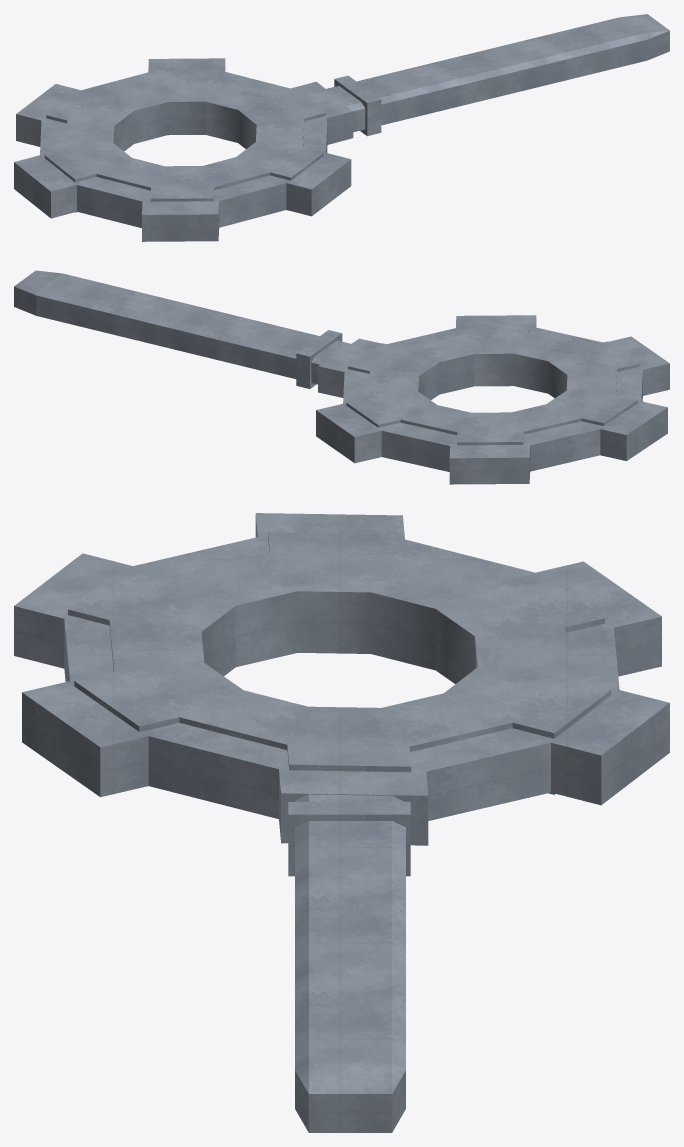
Rendered from key.fbx.
3 views of the same model, one above another, from view 1: azimuth 30°, elevation 25°; view 2: azimuth 150°, elevation 25°; view 3: azimuth 270°, elevation 25° (orthographic). The views are drawn at different scales.
Visible parts, largest first — view 1: mergedBlocks; view 2: mergedBlocks; view 3: mergedBlocks.
Boxes of the visible parts, left/top/right/bottom form: mergedBlocks: left=14, top=14, right=669, bottom=241; mergedBlocks: left=14, top=270, right=669, bottom=484; mergedBlocks: left=14, top=513, right=669, bottom=1132.
Size of the model in its own units: 120 by 6 by 57.89.
Materials: 3 (3 with a texture image).
